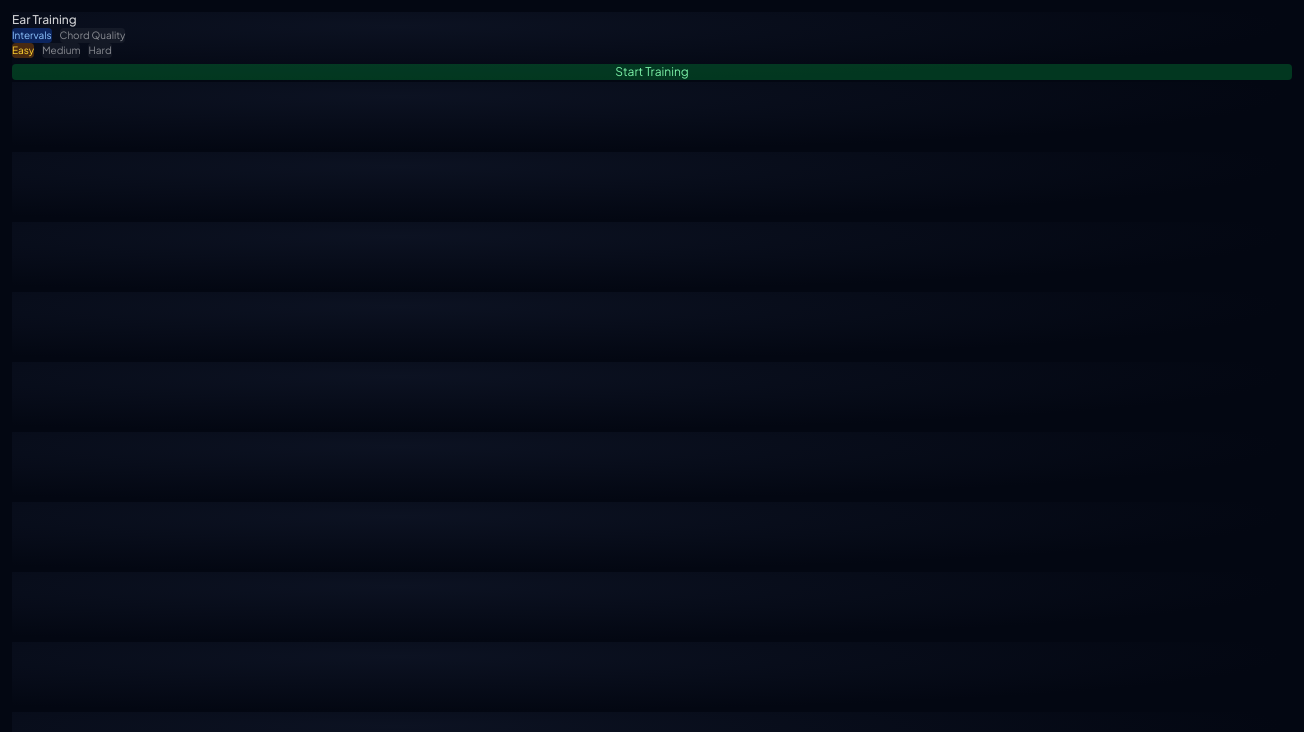
Test: EarTrainingPanel › stop button returns to setup screen
The width and height of the screenshot is (1304, 732).
Click the button "Start Training": (652, 72) left=12, top=64, right=1292, bottom=80
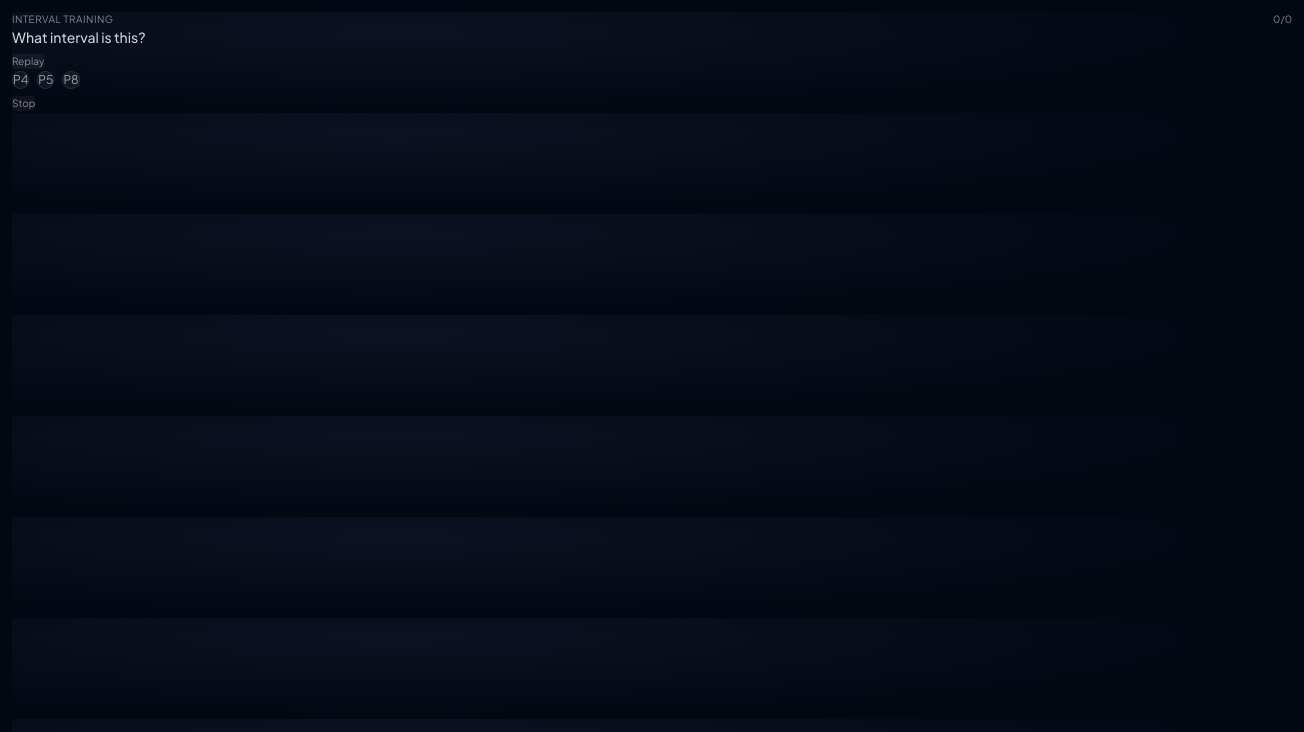
Click the button "Stop": (24, 104) left=12, top=96, right=35, bottom=111
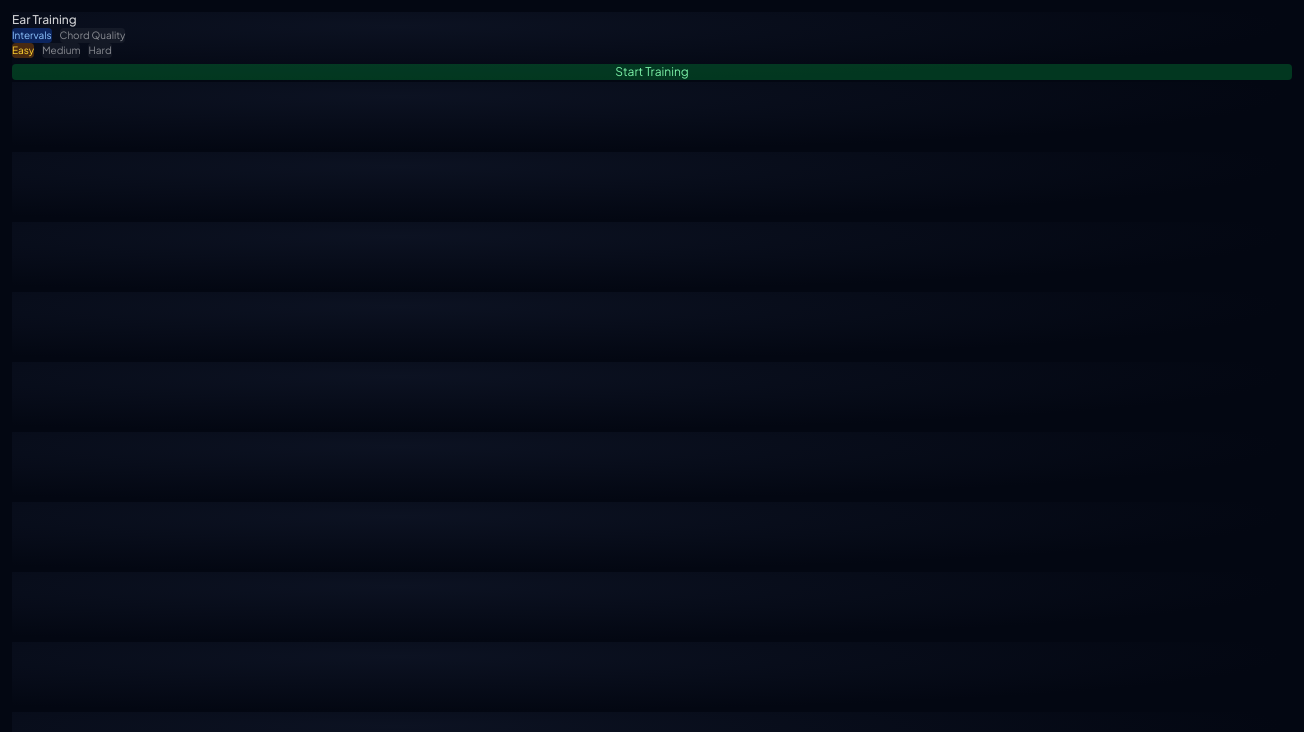
Now the button "Start Training" is shown, box left=12, top=64, right=1292, bottom=80
